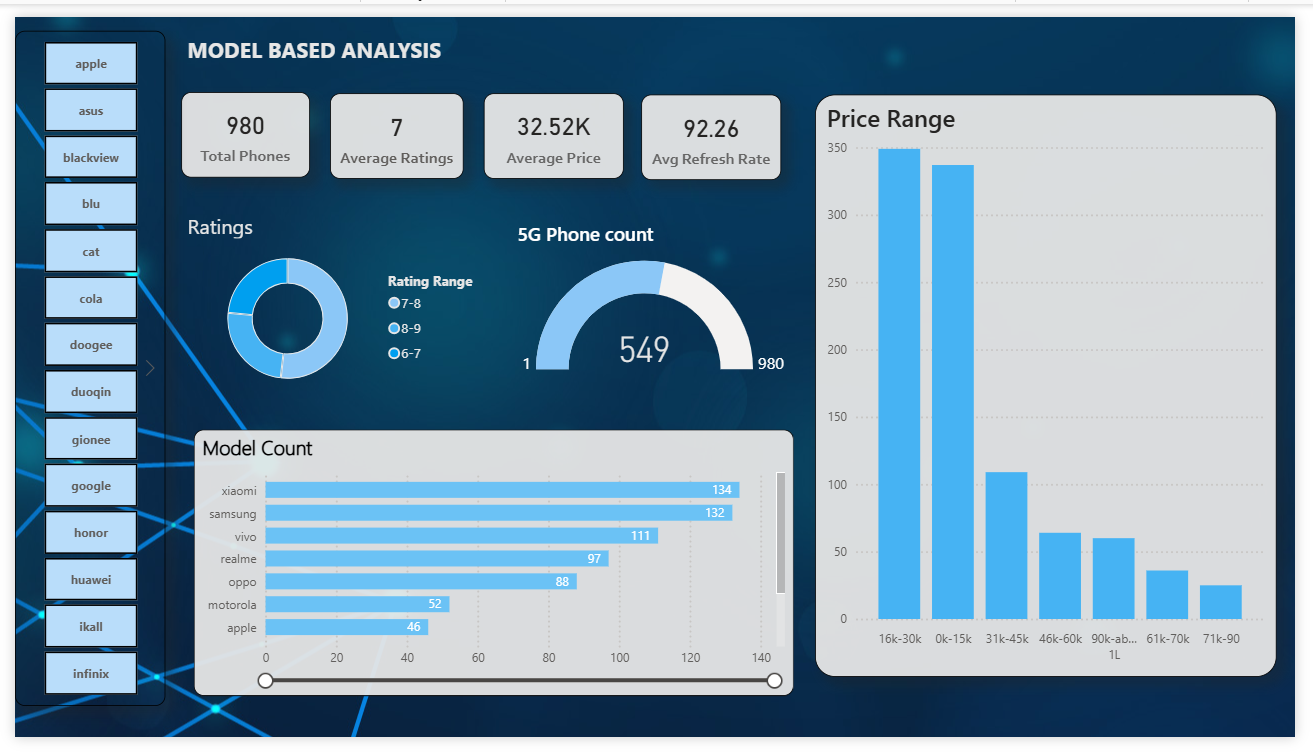

The page's visual inventory and layout, read from the dashboard file:
{"tool":"powerbi","page":{"name":"Phone Based View","canvas":[1280,720],"ordinal":0},"visuals":[{"type":"card","fields":{"Values":["Real World Smartphone's Dataset export 2025-07-25 13-08-29.Measure"]},"box":[315.4,76,133.7,85.6],"z":0},{"type":"card","fields":{"Values":["Real World Smartphone's Dataset export 2025-07-25 13-08-29.Average Price"]},"box":[468.3,76,140.4,85.6],"z":1000},{"type":"card","fields":{"Values":["Real World Smartphone's Dataset export 2025-07-25 13-08-29.Total Phones"]},"box":[166.3,75,128.8,85.6],"z":2000},{"type":"slicer","title":"Brand","fields":{"Values":["Real World Smartphone's Dataset.brand_name"]},"box":[0,13.8,150,675],"z":3000},{"type":"textbox","box":[167.8,12,300.8,43.1],"z":4000},{"type":"donutChart","title":"Ratings","fields":{"Category":["Real World Smartphone's Dataset.Rating Range"],"Y":["CountNonNull(Real World Smartphone's Dataset.model)"]},"box":[167.8,195.4,311.6,187],"z":5000},{"type":"card","fields":{"Values":["Real World Smartphone's Dataset.Refresh Rate"]},"box":[626,76.9,140.4,85.6],"z":6000},{"type":"barChart","title":"Model Count","fields":{"Category":["Real World Smartphone's Dataset.brand_name"],"Y":["CountNonNull(Real World Smartphone's Dataset.model)"]},"box":[178.8,412.5,600,266.2],"z":7000},{"type":"clusteredColumnChart","title":"Price Range ","fields":{"Category":["Real World Smartphone's Dataset.Price Range"],"Y":["CountNonNull(Real World Smartphone's Dataset.model)"]},"box":[800,77.5,461.2,582.5],"z":11000},{"type":"gauge","title":"5G Phone count","fields":{"Y":["Sum(Real World Smartphone's Dataset.5G_or_not)"],"MinValue":["Real World Smartphone's Dataset.Min count"],"MaxValue":["Real World Smartphone's Dataset.Max count"]},"box":[497.4,203.7,281.6,169],"z":12000}]}

Visuals, with their boxes in screenshot pixels (x1, y1, x2, y2), scaled from the page's 1280x720 canvas onto the 1313x754 screenshot:
card - Real World Smartphone's Dataset export 2025-07-25 13-08-29.Measure: locate(324, 80, 461, 169)
card - Real World Smartphone's Dataset export 2025-07-25 13-08-29.Average Price: locate(480, 80, 624, 169)
card - Real World Smartphone's Dataset export 2025-07-25 13-08-29.Total Phones: locate(171, 79, 303, 168)
"Brand" slicer: locate(0, 14, 154, 721)
textbox: locate(172, 13, 481, 58)
"Ratings" donutChart: locate(172, 205, 492, 400)
card - Real World Smartphone's Dataset.Refresh Rate: locate(642, 81, 786, 170)
"Model Count" barChart: locate(183, 432, 799, 711)
"Price Range " clusteredColumnChart: locate(821, 81, 1294, 691)
"5G Phone count" gauge: locate(510, 213, 799, 390)
